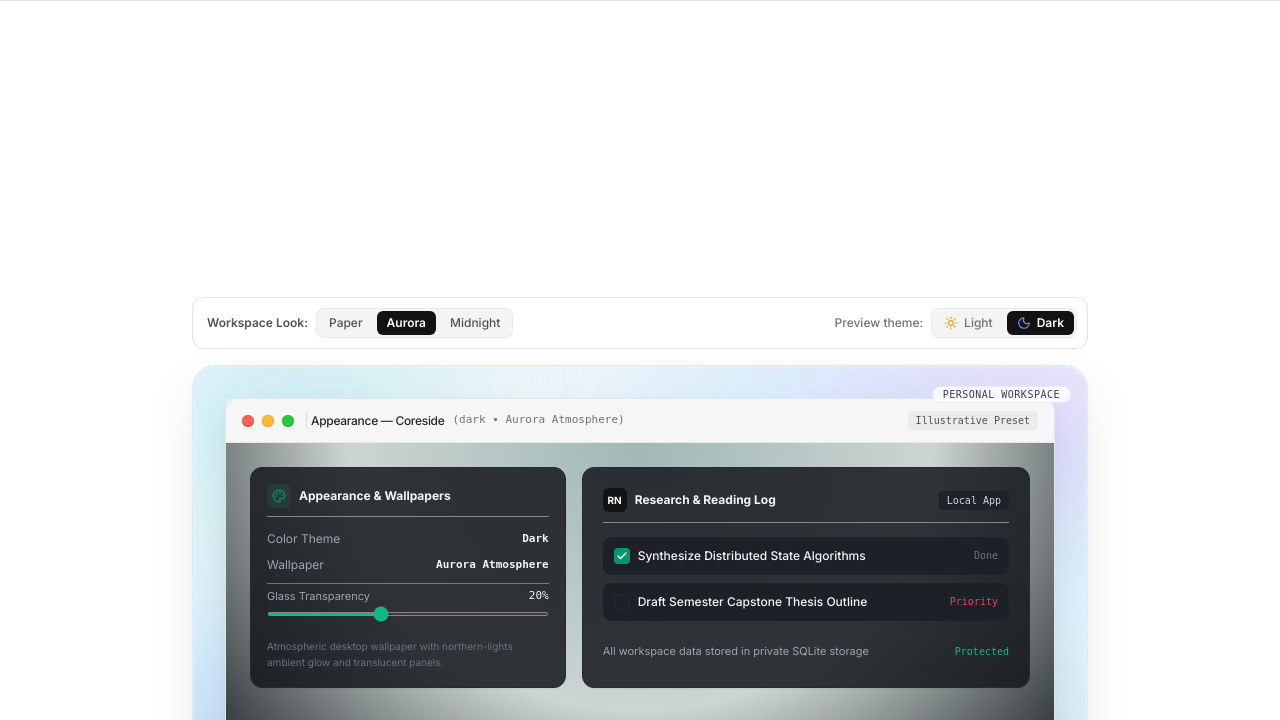
Personalization Component (Appearance & Customization) › switches between Paper, Aurora, and Midnight presets
This screenshot has width=1280, height=720.
Note: Select Paper
Click the button "Paper". click: (346, 323)
box: [319,311,373,335]
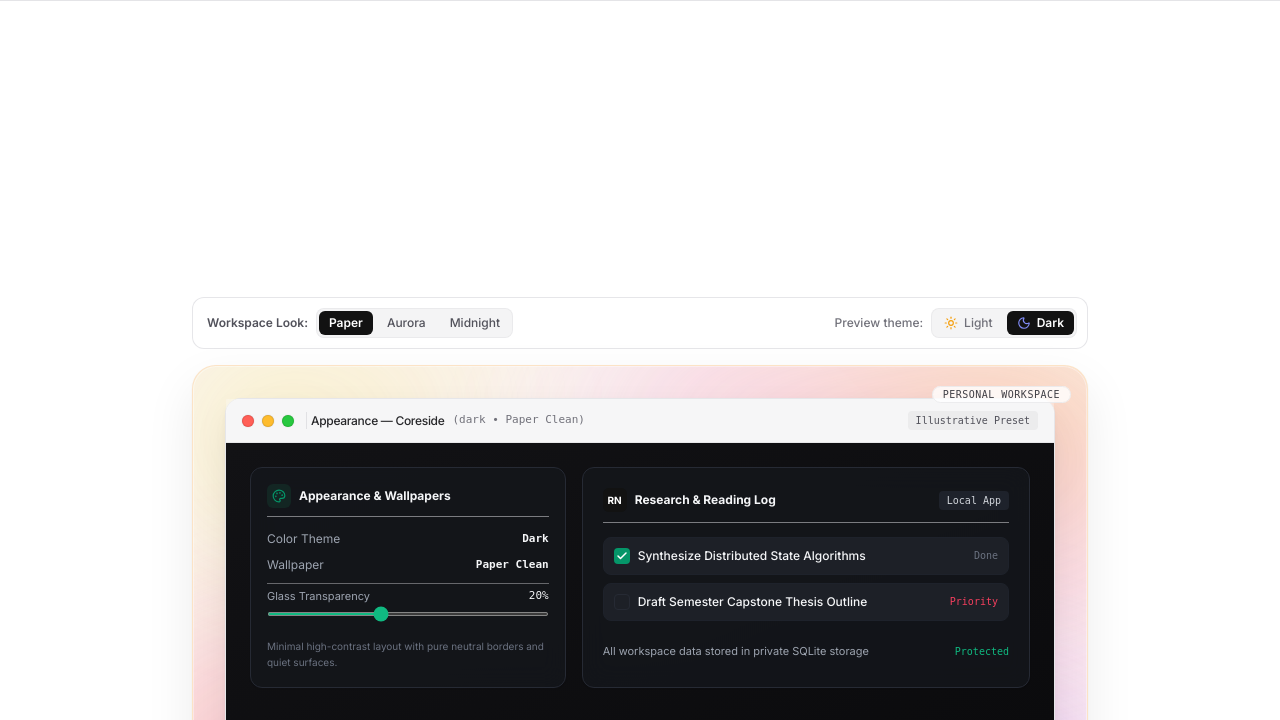
Check: the text "Paper Clean" is shown, box [476,557,549,573]
Note: Select Midnight
Click the button "Midnight". click: (475, 323)
box: [440,311,510,335]
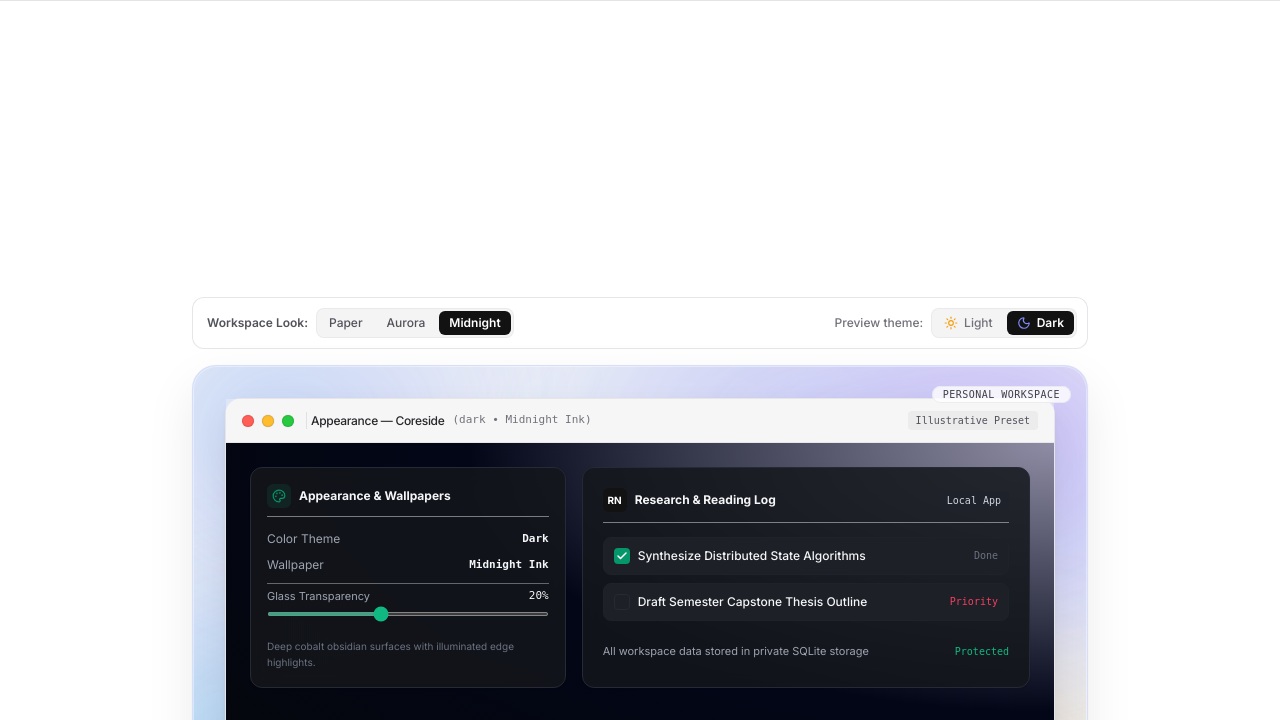
Check: the text "Midnight Ink" is shown, box [469,557,549,573]
